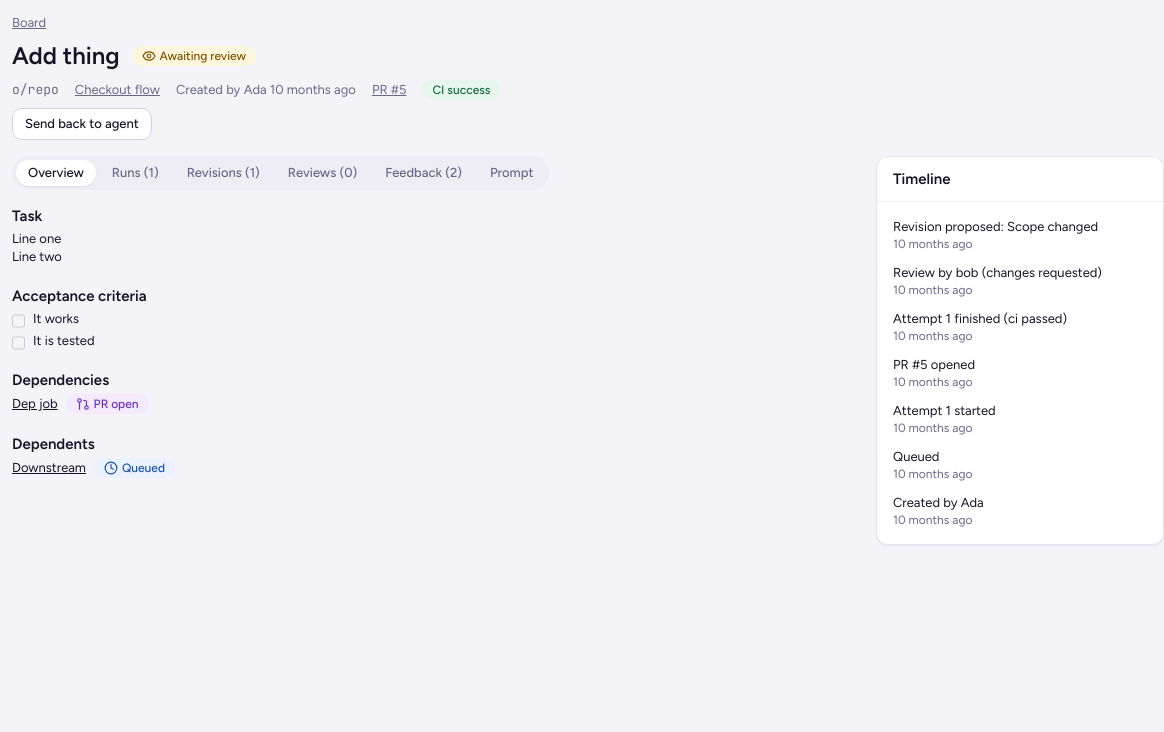
Test: JobDetailView › shows the executor name and owner on a run, never a token
Click the tab "Runs (1)": coordinates (135, 173) [100, 160, 171, 186]
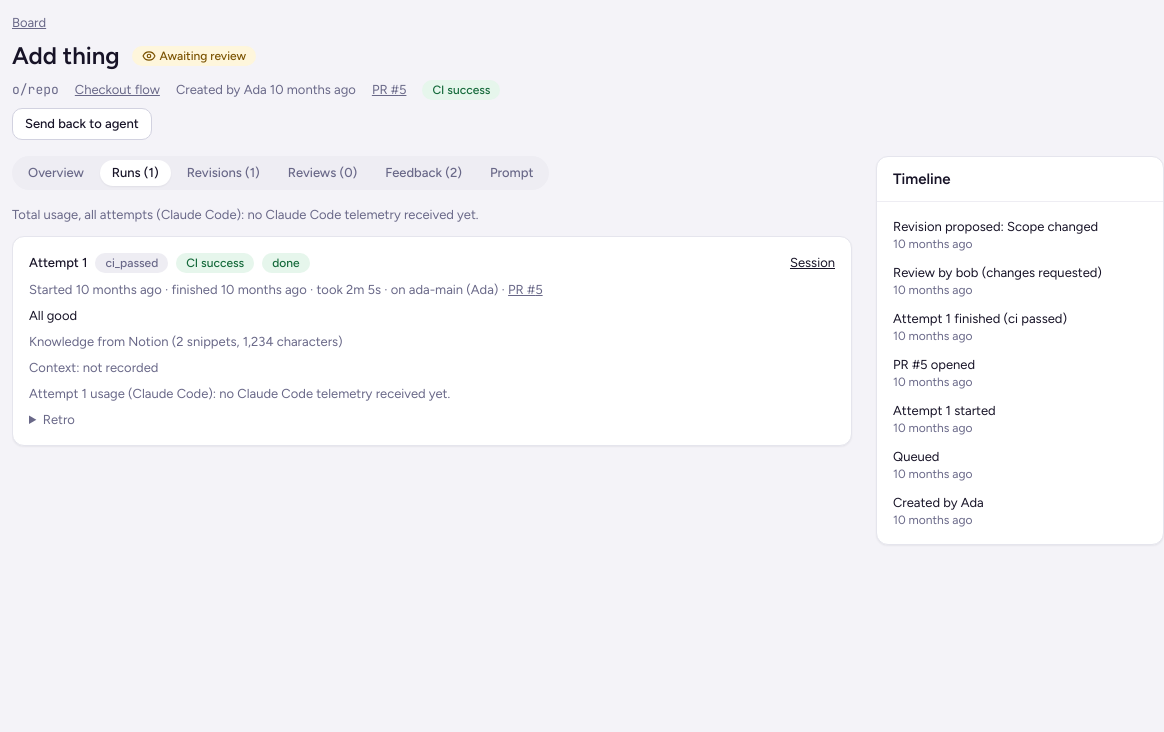
Check: the text "on ada-main (Ada)" is shown, box [381, 282, 498, 297]
